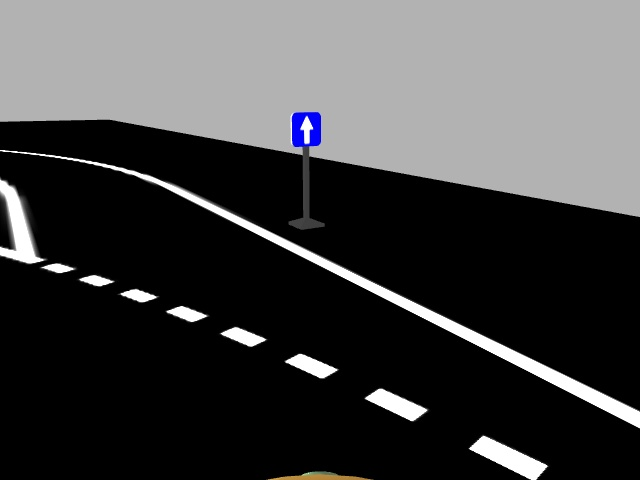OneWay: (287, 109, 325, 150)
